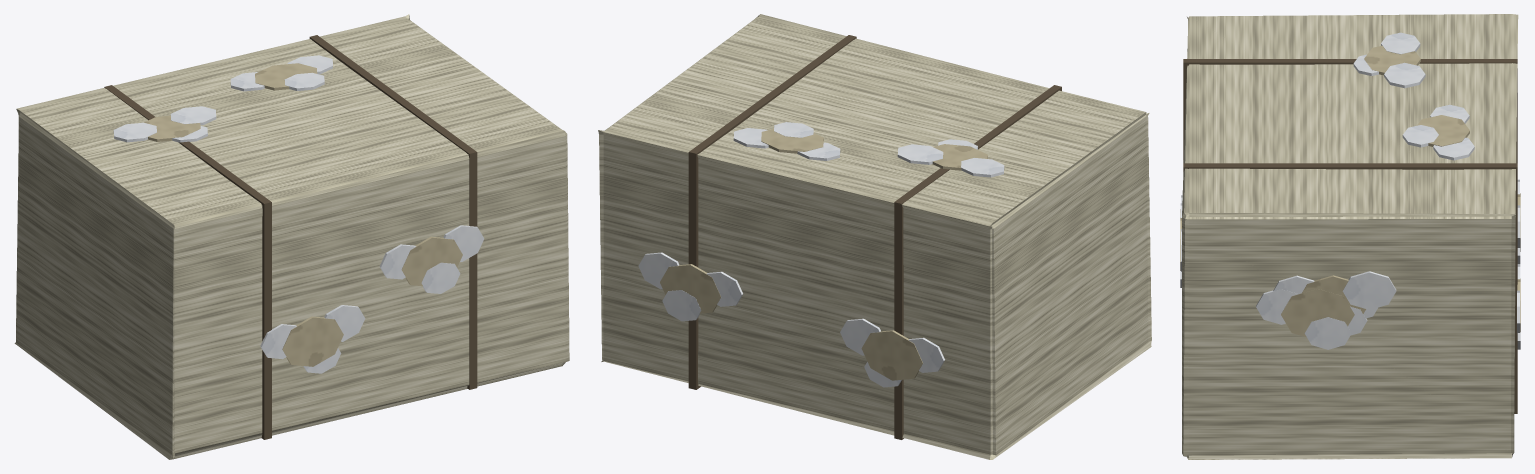
The model's file is bale_sky.glb.
The picture shows the model from 3 angles, left to right: view 1: azimuth 30°, elevation 25°; view 2: azimuth 150°, elevation 25°; view 3: azimuth 270°, elevation 25°; orthographic projection. The views are drawn at different scales.
Visible parts, largest first — view 1: BaleSky; view 2: BaleSky; view 3: BaleSky.
Boxes of the visible parts, left/top/right/bottom form: BaleSky: left=14, top=14, right=569, bottom=459; BaleSky: left=598, top=14, right=1151, bottom=459; BaleSky: left=1180, top=14, right=1520, bottom=459.
Size of the model in its own units: 1.3 by 0.7483 by 0.9208.
4 materials, 3 textured.
